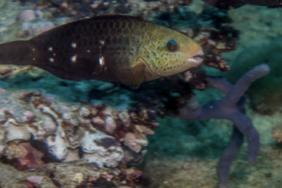Scaridae -Parrotfishes-: (0, 14, 205, 88)
